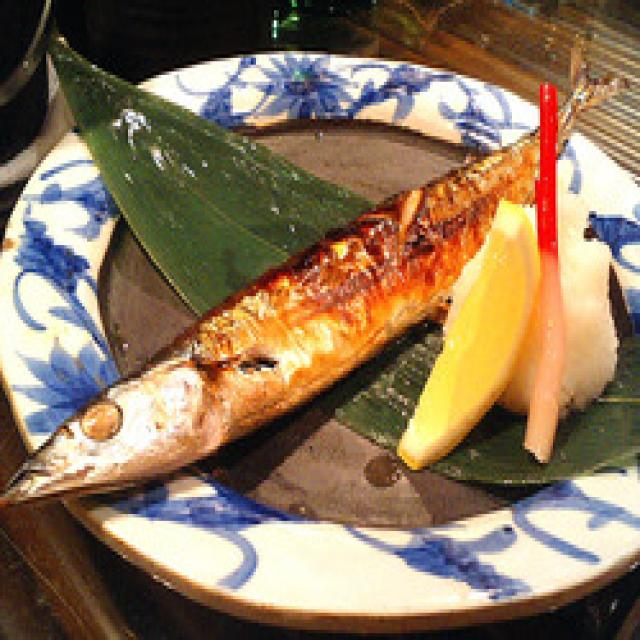熟制海鲜: (0, 126, 640, 497)
